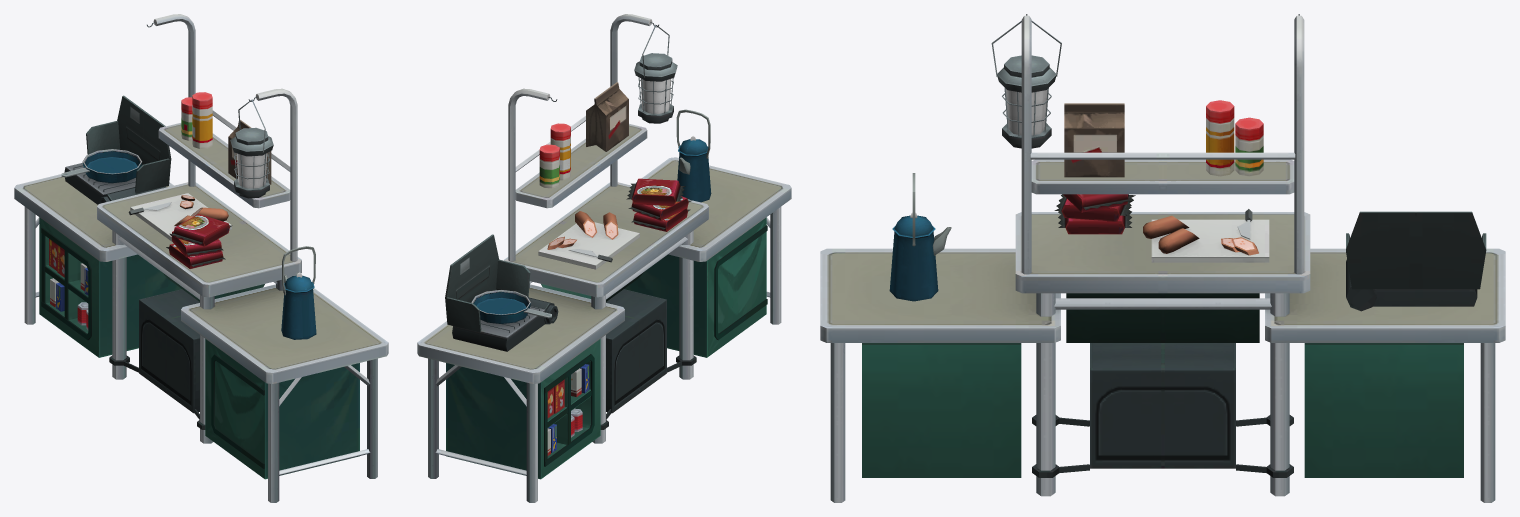
The model's file is my_military_01_countertop_02.glb.
3 views of the same model, side by side, from view 1: azimuth 30°, elevation 25°; view 2: azimuth 150°, elevation 25°; view 3: azimuth 270°, elevation 25° (orthographic). The views are drawn at different scales.
Parts seen in each view (by area): view 1: my_military_01_countertop_02; view 2: my_military_01_countertop_02; view 3: my_military_01_countertop_02.
Part boxes in pixels (x1=…): my_military_01_countertop_02: x1=14, y1=14, x2=388, y2=502; my_military_01_countertop_02: x1=417, y1=14, x2=791, y2=502; my_military_01_countertop_02: x1=820, y1=14, x2=1505, y2=502.
Size of the model in its own units: 0.00407 by 0.0109 by 0.0148.
Materials: 1 (1 with a texture image).
